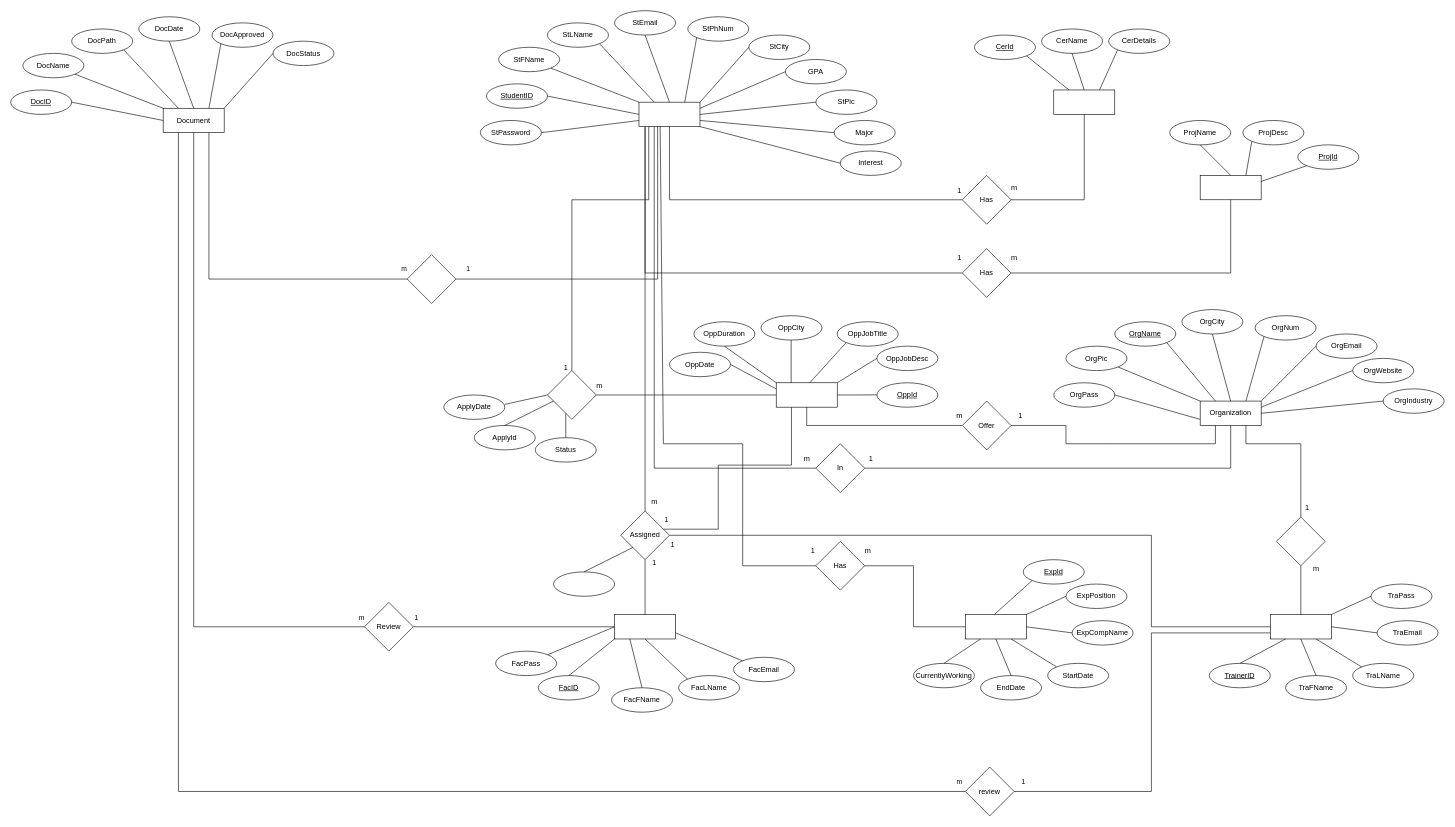
This 1455x827 diagram has some shape labels left out. The centre of each missing label's shape, as x and y in pixels:
Add: pixel 1300 541
Apply: pixel 571 394
AssignId: pixel 584 583
Certificate: pixel 1084 101
Experirence: pixel 995 626
Faculty: pixel 645 626
Opportunity: pixel 806 394
Project: pixel 1230 187
Student: pixel 669 114
Trainer: pixel 1300 626
Uploads: pixel 431 278
